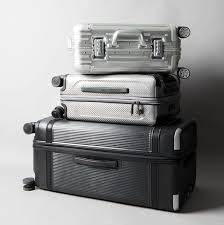suitcase: (20, 115, 199, 213), (50, 71, 182, 126), (66, 23, 192, 79)
